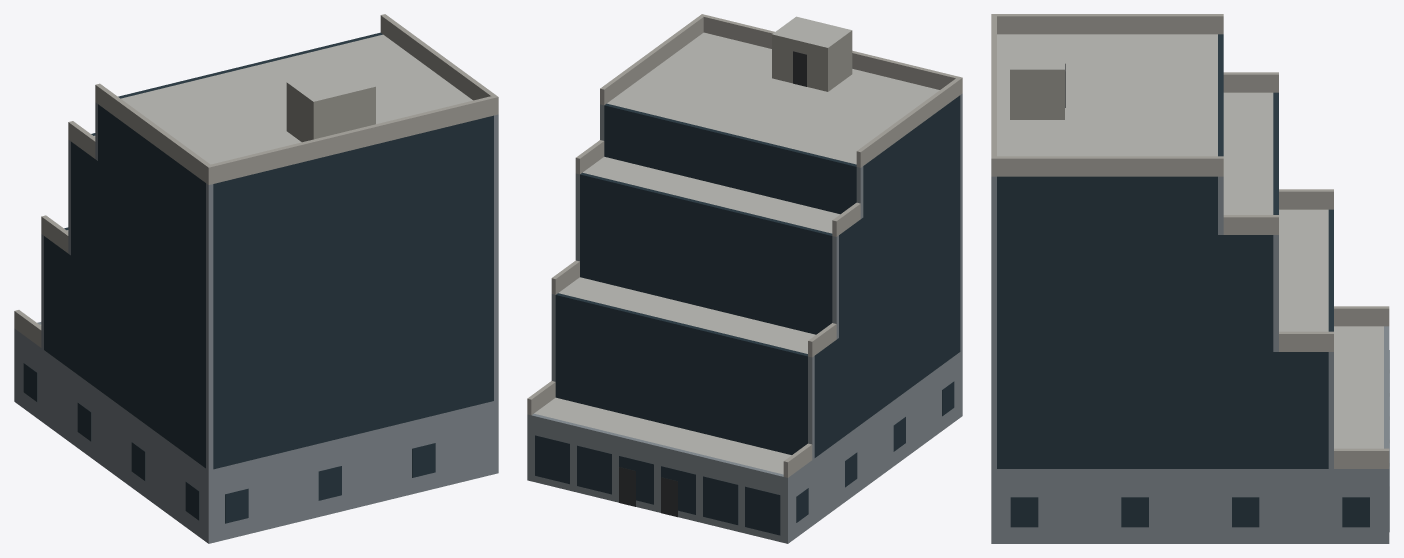
File: bld_t4_sixstorey_office_quest.glb
3 renders of one model, left to right at view 1: azimuth 30°, elevation 25°; view 2: azimuth 150°, elevation 25°; view 3: azimuth 270°, elevation 25°, orthographic. The views are drawn at different scales.
Visible parts, largest first — view 1: bld_t4_sixstorey_office_quest-col; view 2: bld_t4_sixstorey_office_quest-col; view 3: bld_t4_sixstorey_office_quest-col.
Boxes of the visible parts, x1=… form: bld_t4_sixstorey_office_quest-col: x1=14, y1=14, x2=498, y2=543; bld_t4_sixstorey_office_quest-col: x1=527, y1=14, x2=962, y2=543; bld_t4_sixstorey_office_quest-col: x1=991, y1=14, x2=1389, y2=543.
Bounding box in the file's own units: 18.62 × 25 × 21.63.
